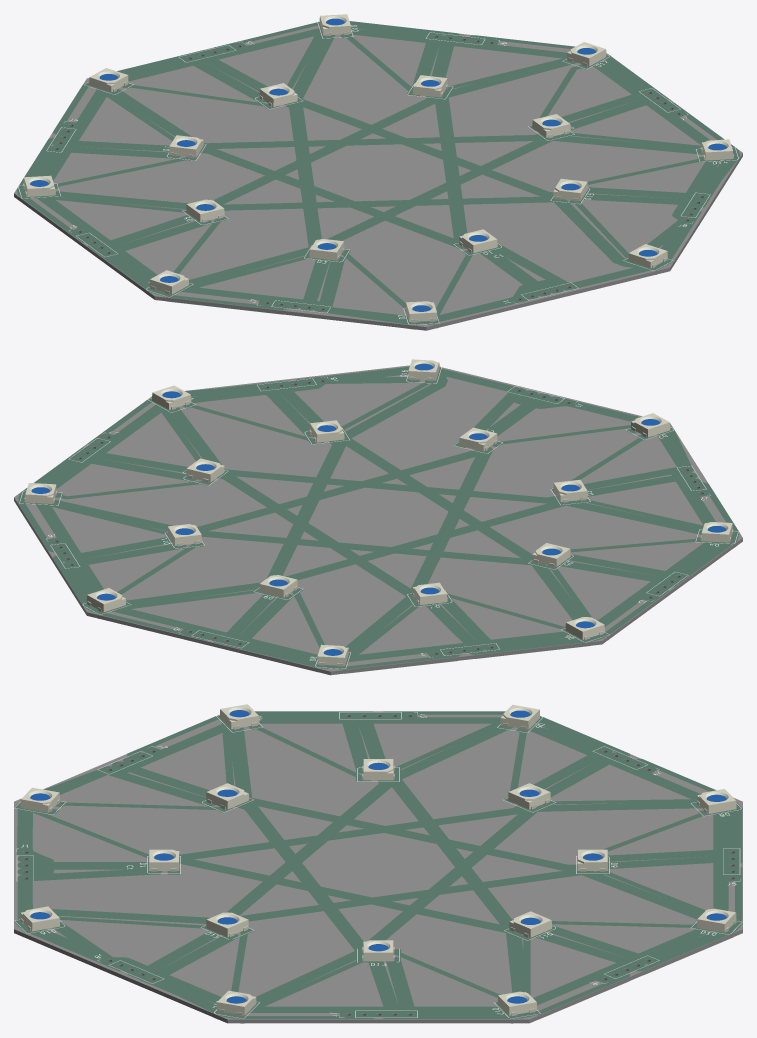
File: 8-00-Bwnz5EW8.glb
3 renders of one model, top to bottom at view 1: azimuth 30°, elevation 25°; view 2: azimuth 150°, elevation 25°; view 3: azimuth 270°, elevation 25°, orthographic. The views are drawn at different scales.
Parts seen in each view (by area): view 1: =>[0:1:1:5], =>[0:1:1:4], =>[0:1:1:3], D16, D8, D12, D4, D9, D13, D5, D1, D11 (+7 smaller); view 2: =>[0:1:1:5], =>[0:1:1:4], =>[0:1:1:3], D14, D1, D10, D2, D6, D5, D13, D9, D3 (+7 smaller); view 3: =>[0:1:1:5], =>[0:1:1:4], =>[0:1:1:3], D7, D15, D3, D11, D2, D4, D6, D14, D16 (+7 smaller).
Boxes of the visible parts, x1,y1,x2,y2 form: =>[0:1:1:5]: (14,22,742,330); =>[0:1:1:4]: (17,21,740,329); =>[0:1:1:3]: (18,21,742,324); D16: (628,244,667,268); D8: (89,68,128,92); D12: (567,42,606,66); D4: (149,270,188,294); D9: (259,83,297,106); D13: (532,114,570,138); D5: (186,199,224,222); D1: (459,229,497,253); D11: (412,75,447,97); =>[0:1:1:5]: (14,365,742,675); =>[0:1:1:4]: (17,366,739,673); =>[0:1:1:3]: (19,367,739,675); D14: (152,385,191,409); D1: (459,427,497,451); D10: (86,588,125,612); D2: (631,413,670,437); D6: (565,617,604,639); D5: (532,543,570,566); D13: (186,458,224,482); D9: (259,575,297,597); D3: (553,479,587,502); =>[0:1:1:5]: (14,711,742,1023); =>[0:1:1:4]: (14,711,742,1023); =>[0:1:1:3]: (14,712,742,1023); D7: (508,783,550,809); D15: (206,912,248,937); D3: (206,783,248,809); D11: (509,911,551,937); D2: (20,787,59,812); D4: (220,704,259,729); D6: (500,704,539,730); D14: (217,990,256,1015); D16: (20,906,59,931).
Bounding box in the file's own units: 0.1207 × 0.00257 × 0.1207.
